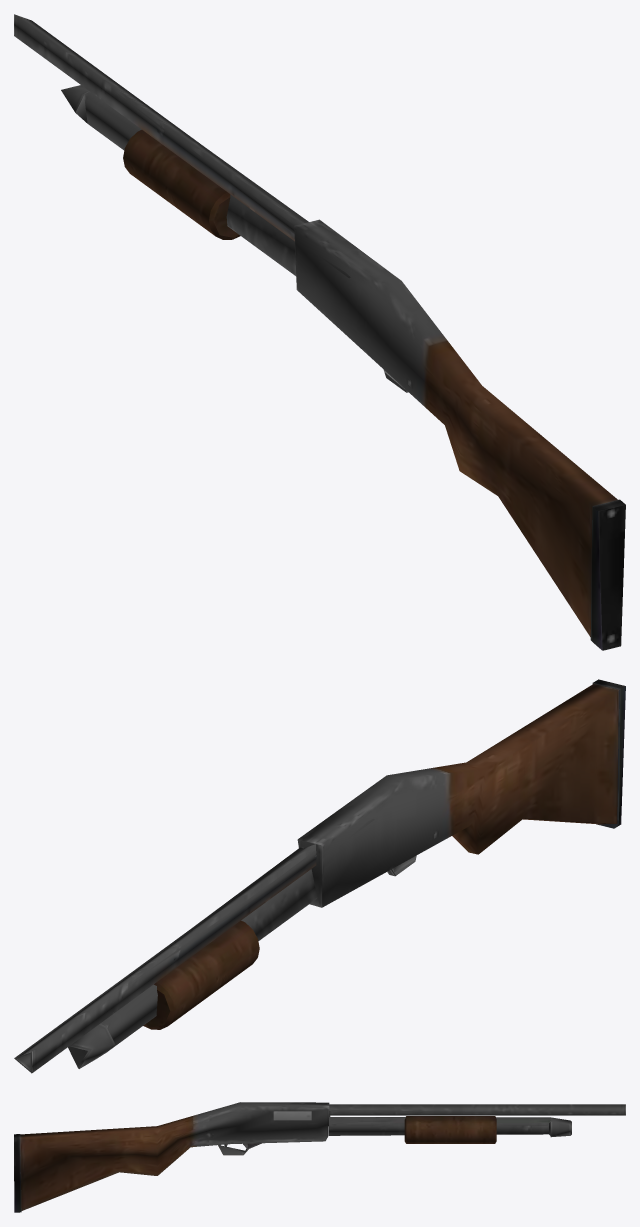
The model's file is 015_Shotgun_cc0_card.glb.
The picture shows the model from 3 angles, top to bottom: view 1: azimuth 30°, elevation 25°; view 2: azimuth 150°, elevation 25°; view 3: azimuth 270°, elevation 25°; orthographic projection. The views are drawn at different scales.
Parts seen in each view (by area): view 1: Shotgun, Fore_Stock; view 2: Shotgun, Fore_Stock; view 3: Shotgun, Fore_Stock, Ejection_Port.
Boxes of the visible parts, left/top/right/bottom form: Shotgun: left=14, top=14, right=625, bottom=650; Fore_Stock: left=123, top=130, right=240, bottom=239; Shotgun: left=14, top=679, right=625, bottom=1073; Fore_Stock: left=143, top=920, right=259, bottom=1029; Shotgun: left=14, top=1102, right=625, bottom=1212; Fore_Stock: left=404, top=1116, right=496, bottom=1143; Ejection_Port: left=273, top=1111, right=311, bottom=1120.
Size of the model in its own units: 0.0562 by 0.2333 by 1.22.
Materials: 1 (1 with a texture image).
